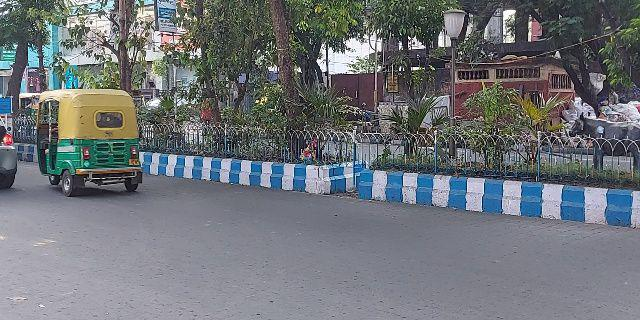Autorickshaw: (34, 86, 147, 195)
Car: (1, 111, 23, 192)
